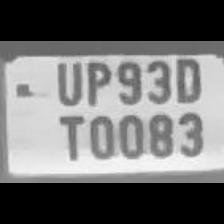0: (85, 110, 116, 160), (116, 110, 144, 160)
3: (174, 108, 204, 156), (143, 54, 171, 102)
8: (145, 110, 173, 158)
9: (111, 56, 142, 106)
D: (170, 54, 202, 102)
P: (82, 57, 113, 107)
T: (51, 111, 85, 161)
U: (51, 56, 84, 106)
